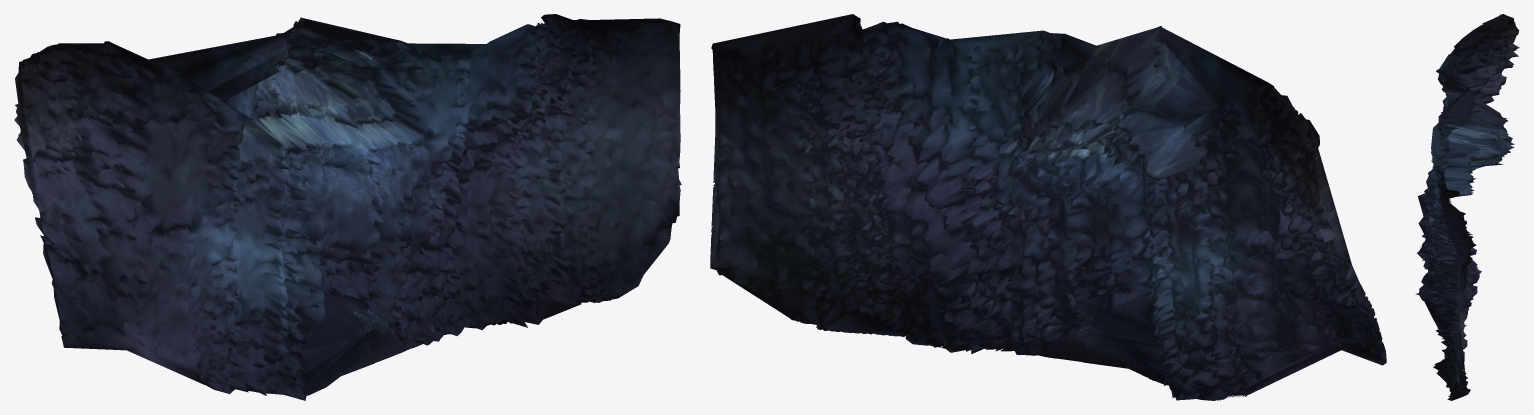
The model's file is 3dRec_LOD1.obj.
The picture shows the model from 3 angles, left to right: view 1: azimuth 30°, elevation 25°; view 2: azimuth 150°, elevation 25°; view 3: azimuth 270°, elevation 25°; orthographic projection. The views are drawn at different scales.
Size of the model in its own units: 25.35 by 13.69 by 5.76.
Materials: 1 (1 with a texture image).
